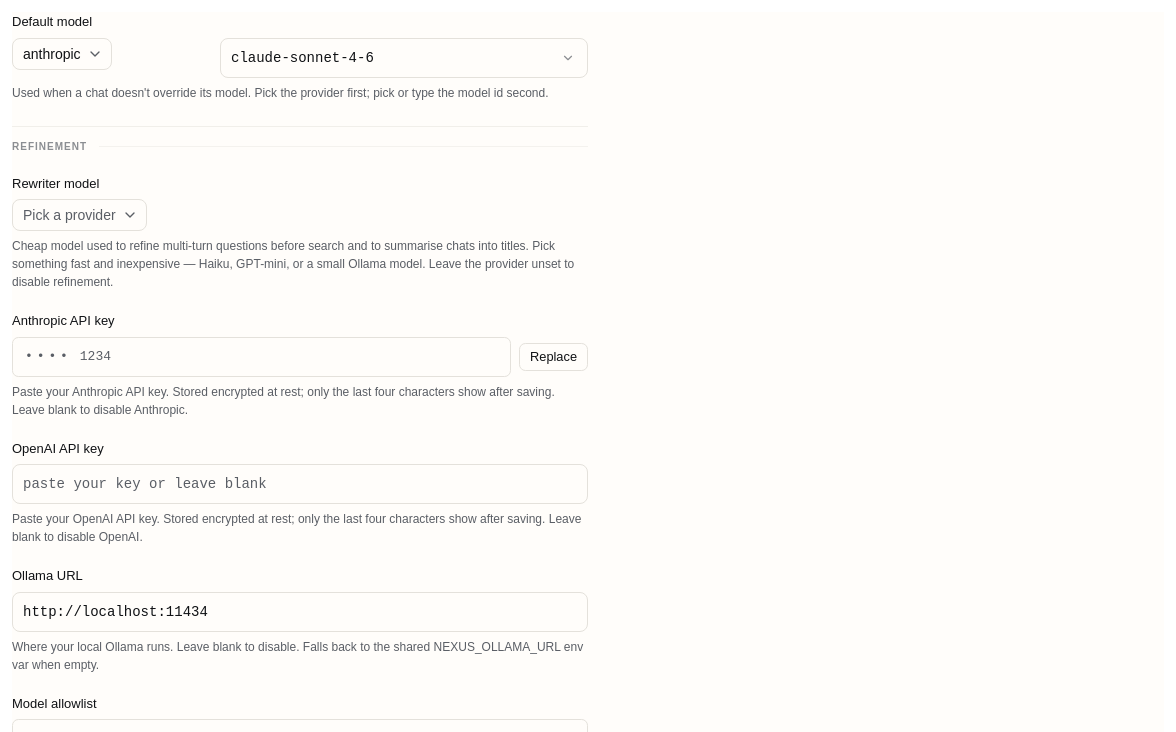
Scenario: LLMForm › replacing the Anthropic key clears the input and reveals Cancel
The image size is (1176, 732).
What coordinates should you click on to do the following:
click the button "Replace"
I would click on:
 (554, 356)
Its box is left=519, top=342, right=588, bottom=370.
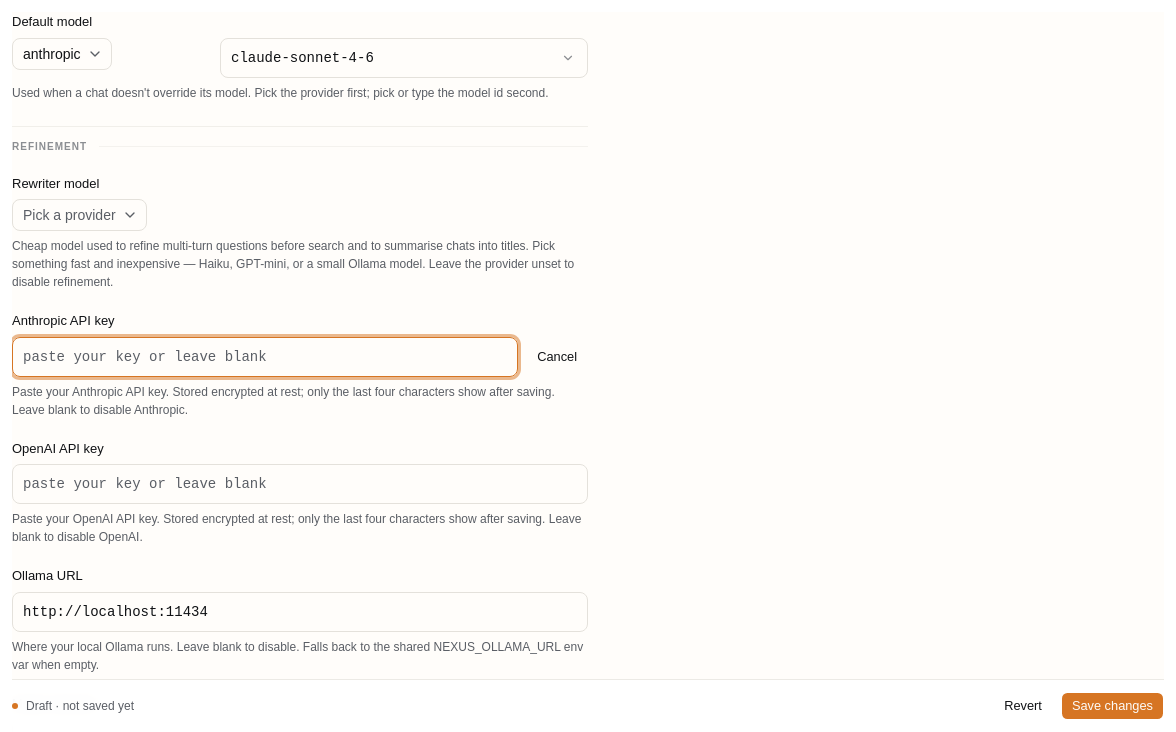
Expected: the number of password fields with placeholder "paste your key or leave blank" is 2, left=12, top=336, right=518, bottom=376; left=12, top=464, right=588, bottom=504
Expected: the button "Cancel" is shown, left=526, top=342, right=588, bottom=370
